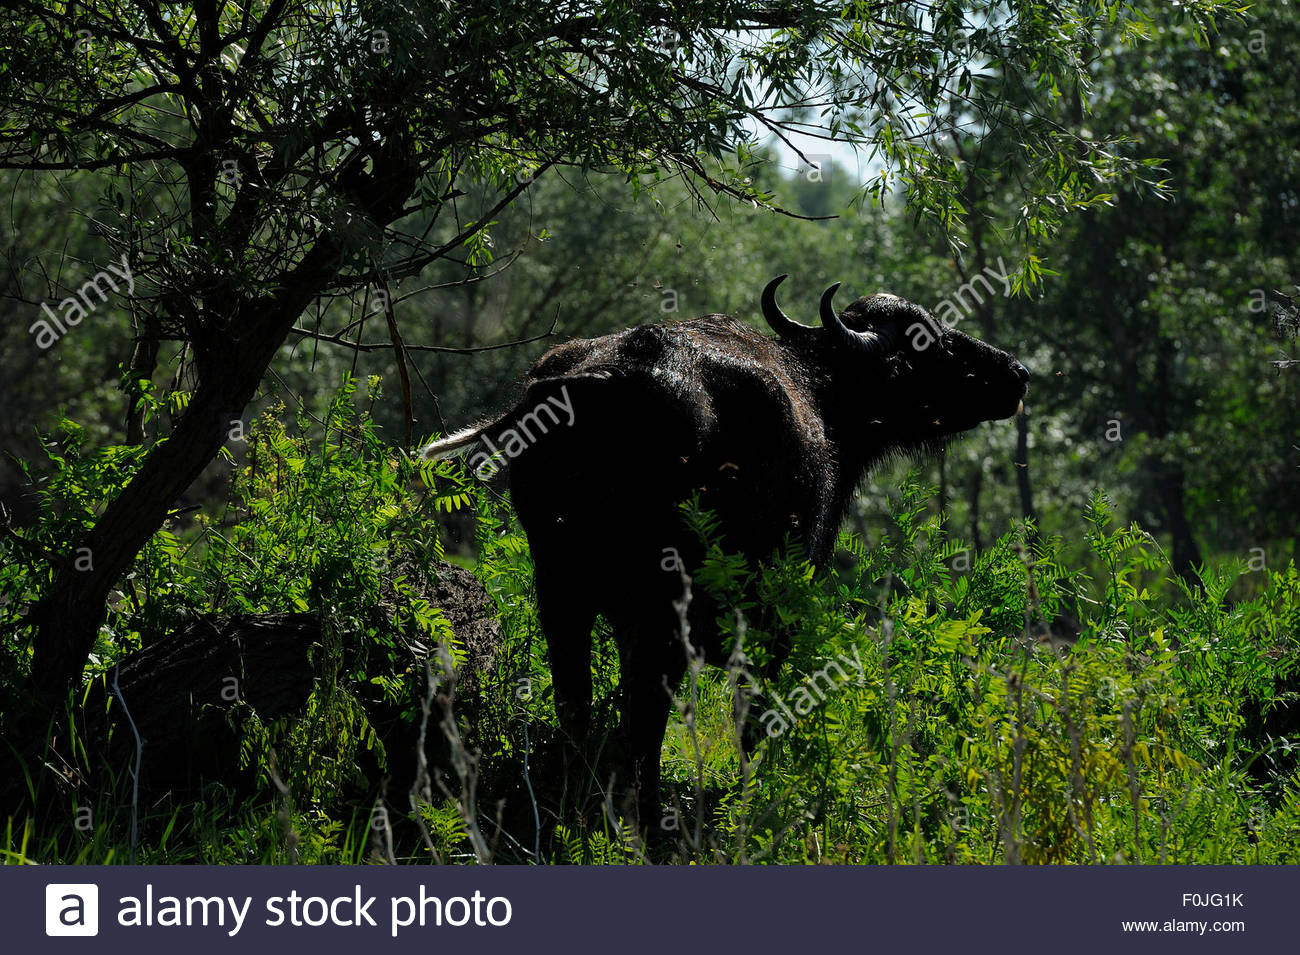buffalo: (494, 275, 1067, 802)
